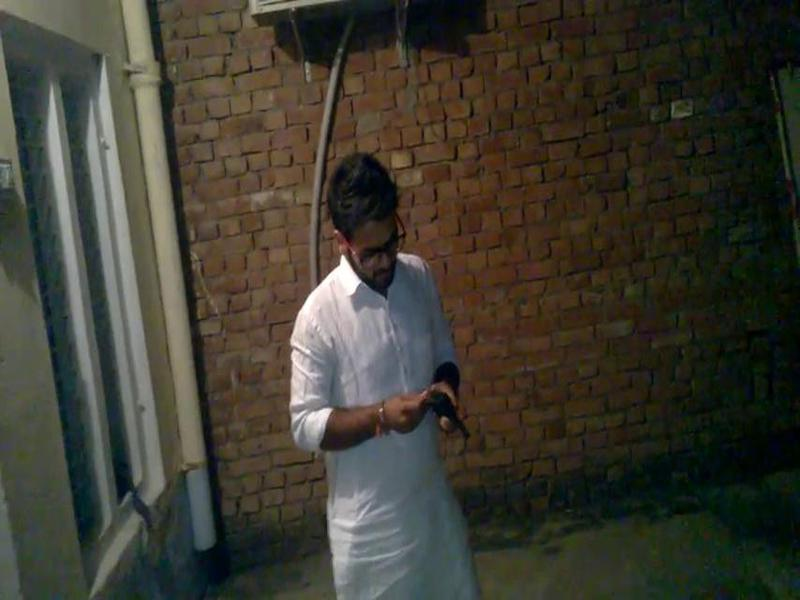Revolver: (401, 374, 488, 471)
